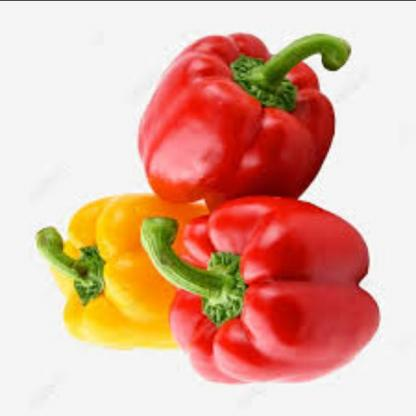bell pepper: (139, 177, 389, 390), (127, 21, 359, 201), (31, 178, 188, 367)
